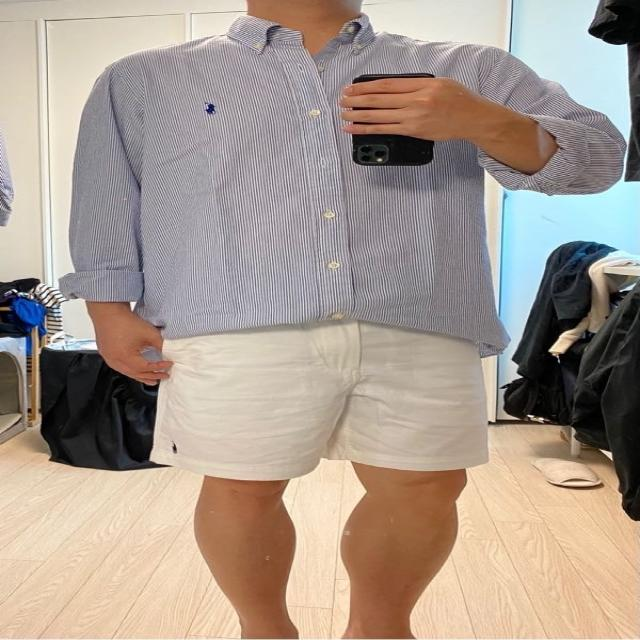shirt: (71, 12, 626, 354)
shortpants: (144, 317, 480, 479)
